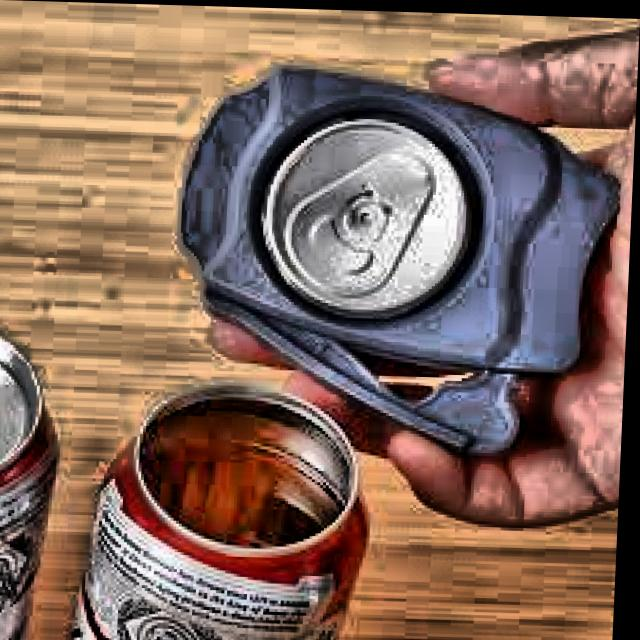can: (70, 365, 393, 640), (0, 314, 79, 640)
